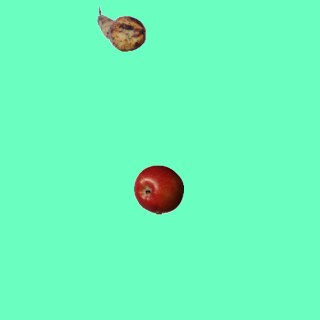Apple Braeburn: (133, 164, 183, 214)
Pear Abate: (96, 4, 146, 54)
